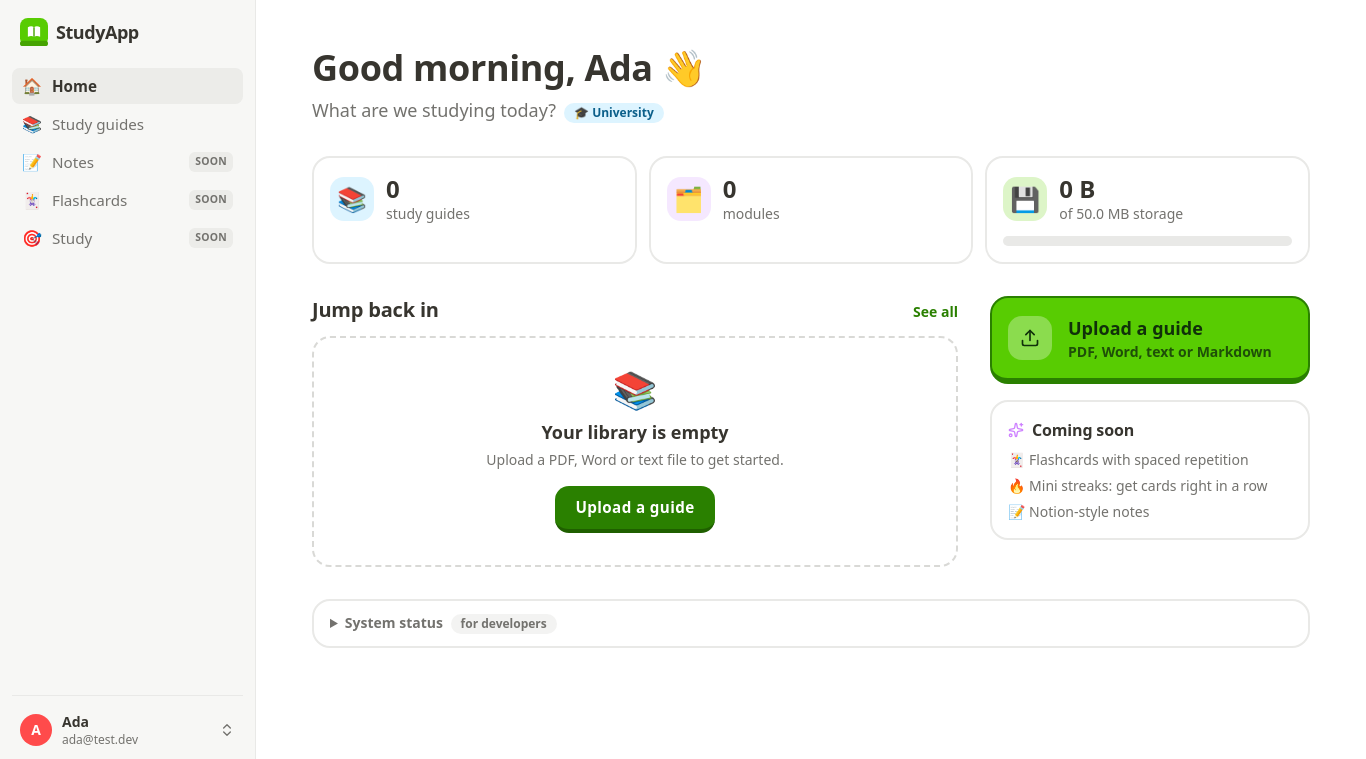
profile menu › opens from the sidebar and leads to the security settings
Click the button with aria-label "Profile and settings": (128, 730) [12,704,243,756]
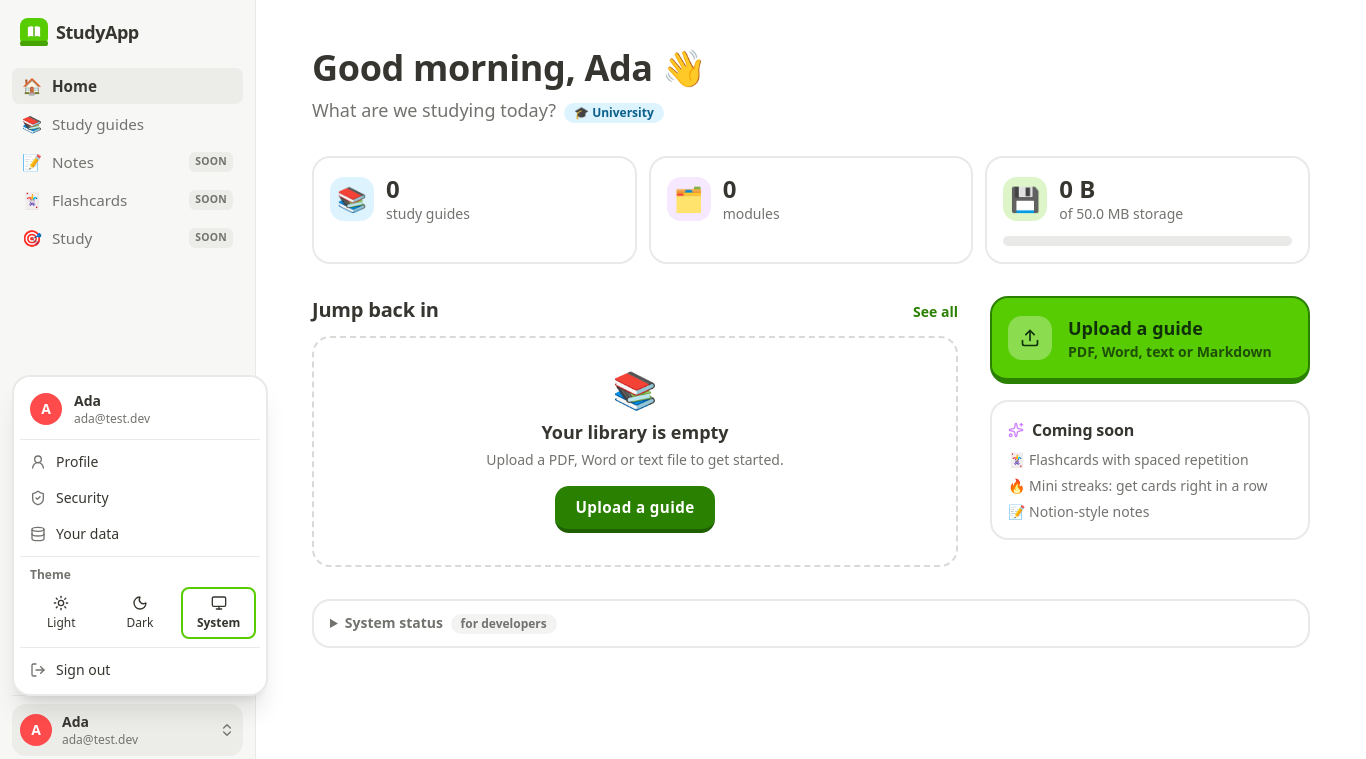
Click the menu item "Security": (69, 498) [30,488,108,507]
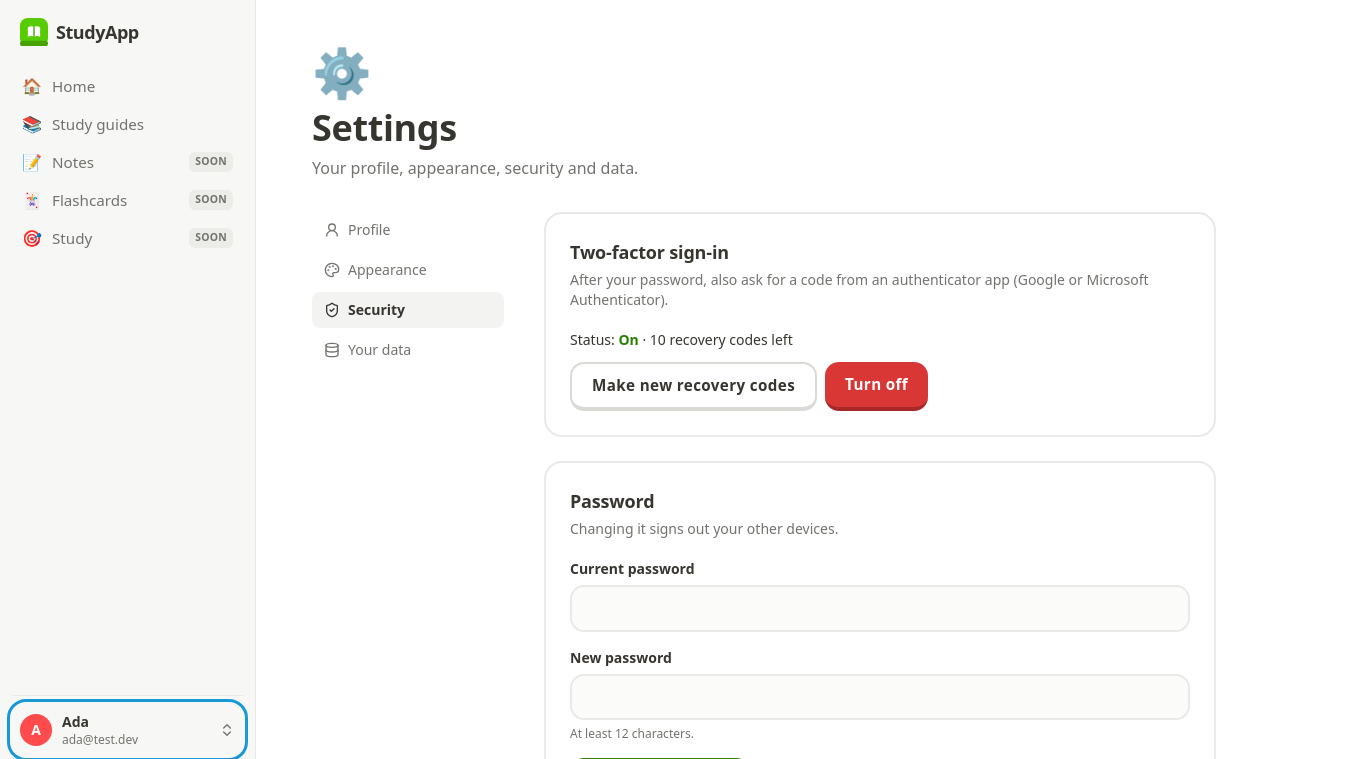
Check: the heading "Two-factor sign-in" is shown, box [570,240,729,264]
